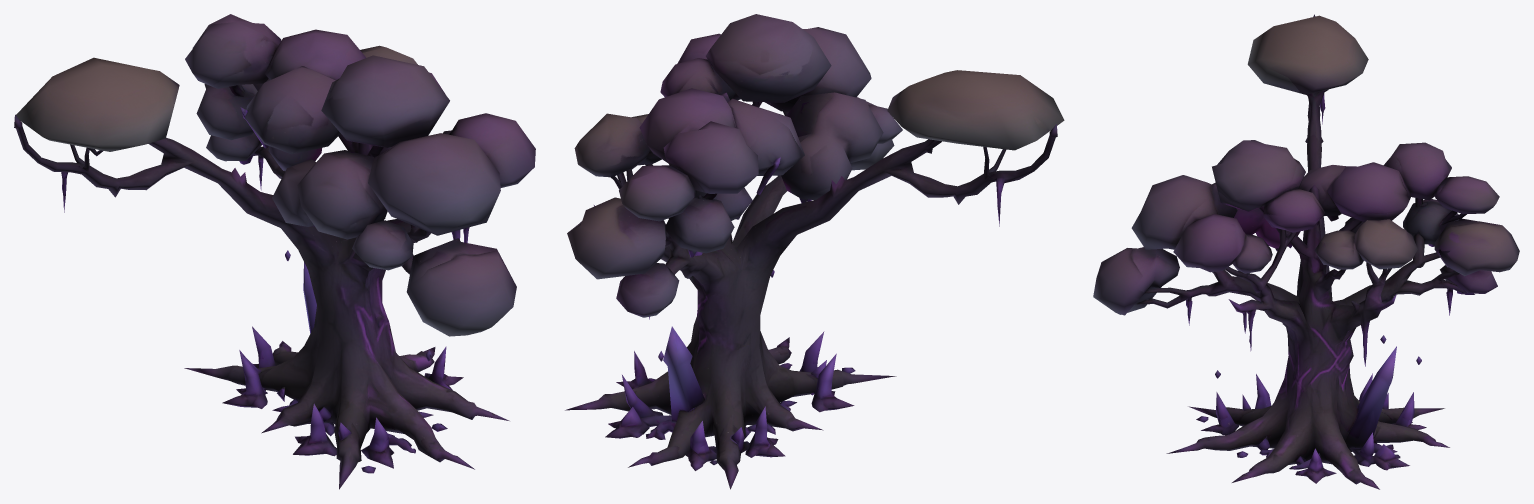
Rendered from SM_Vegetation_FantasyTree_02.fbx.
3 views of the same model, side by side, from view 1: azimuth 30°, elevation 25°; view 2: azimuth 150°, elevation 25°; view 3: azimuth 270°, elevation 25° (orthographic). The views are drawn at different scales.
Visible parts, largest first — view 1: SM_Vegetation_FantasyTree_02; view 2: SM_Vegetation_FantasyTree_02; view 3: SM_Vegetation_FantasyTree_02.
Boxes of the visible parts, x1,y1,x2,y2 form: SM_Vegetation_FantasyTree_02: [14, 14, 535, 489]; SM_Vegetation_FantasyTree_02: [565, 14, 1064, 489]; SM_Vegetation_FantasyTree_02: [1093, 14, 1519, 489].
Bounding box in the file's own units: 0.9902 × 0.834 × 0.998.
Materials: 1 (1 with a texture image).
